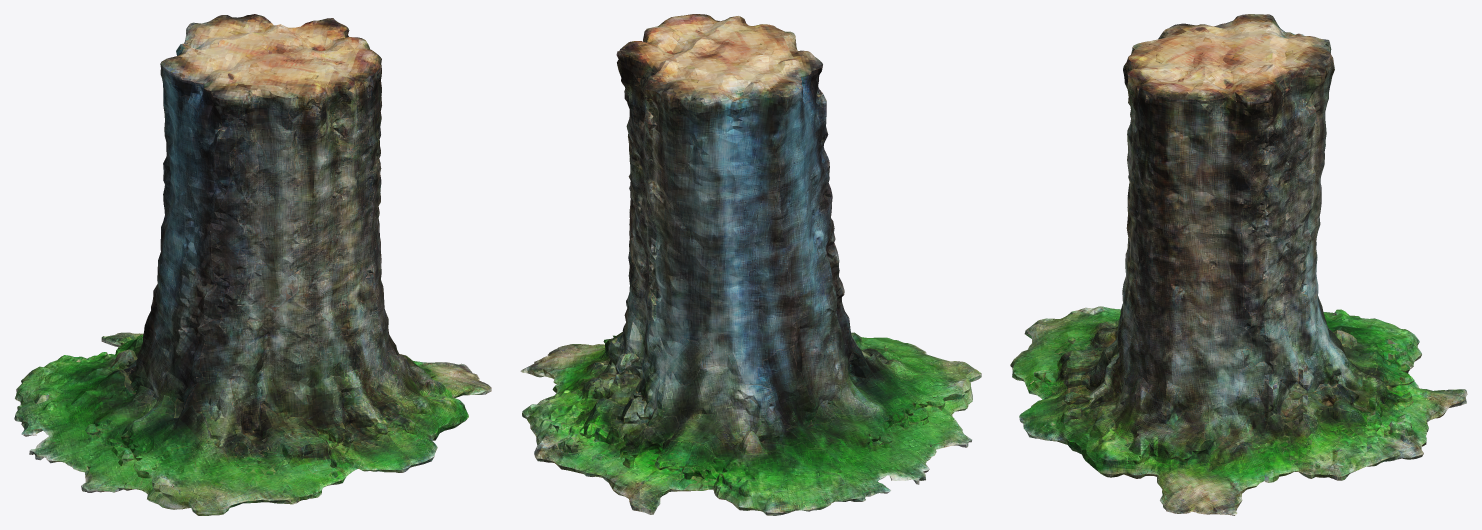
Rendered from a large tree stump.glb.
3 renders of one model, left to right at view 1: azimuth 30°, elevation 25°; view 2: azimuth 150°, elevation 25°; view 3: azimuth 270°, elevation 25°, orthographic.
Bounding box in the file's own units: 0.8934 × 0.753 × 0.8406.
1 material, 1 textured.
